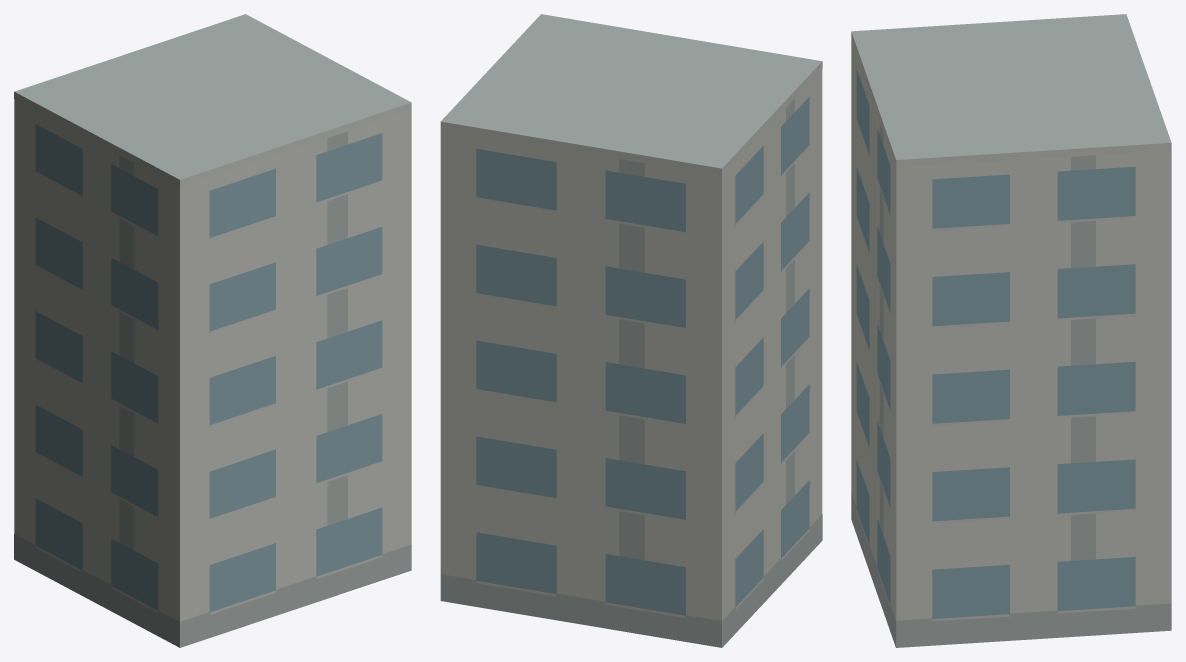
The model's file is residential-e7343b2d-87f6-4d25-9890-b9bcd04d78cb.glb.
3 renders of one model, left to right at view 1: azimuth 30°, elevation 25°; view 2: azimuth 150°, elevation 25°; view 3: azimuth 270°, elevation 25°, orthographic. The views are drawn at different scales.
Visible parts, largest first — view 1: residential-e7343b2d-87f6-4d25-9890-b9bcd04d78cb.tmp; view 2: residential-e7343b2d-87f6-4d25-9890-b9bcd04d78cb.tmp; view 3: residential-e7343b2d-87f6-4d25-9890-b9bcd04d78cb.tmp.
Part boxes in pixels (x1=…): residential-e7343b2d-87f6-4d25-9890-b9bcd04d78cb.tmp: x1=14, y1=14, x2=411, y2=647; residential-e7343b2d-87f6-4d25-9890-b9bcd04d78cb.tmp: x1=440, y1=14, x2=822, y2=647; residential-e7343b2d-87f6-4d25-9890-b9bcd04d78cb.tmp: x1=851, y1=14, x2=1171, y2=647.
Size of the model in its own units: 9.8 by 15.25 by 9.08.
